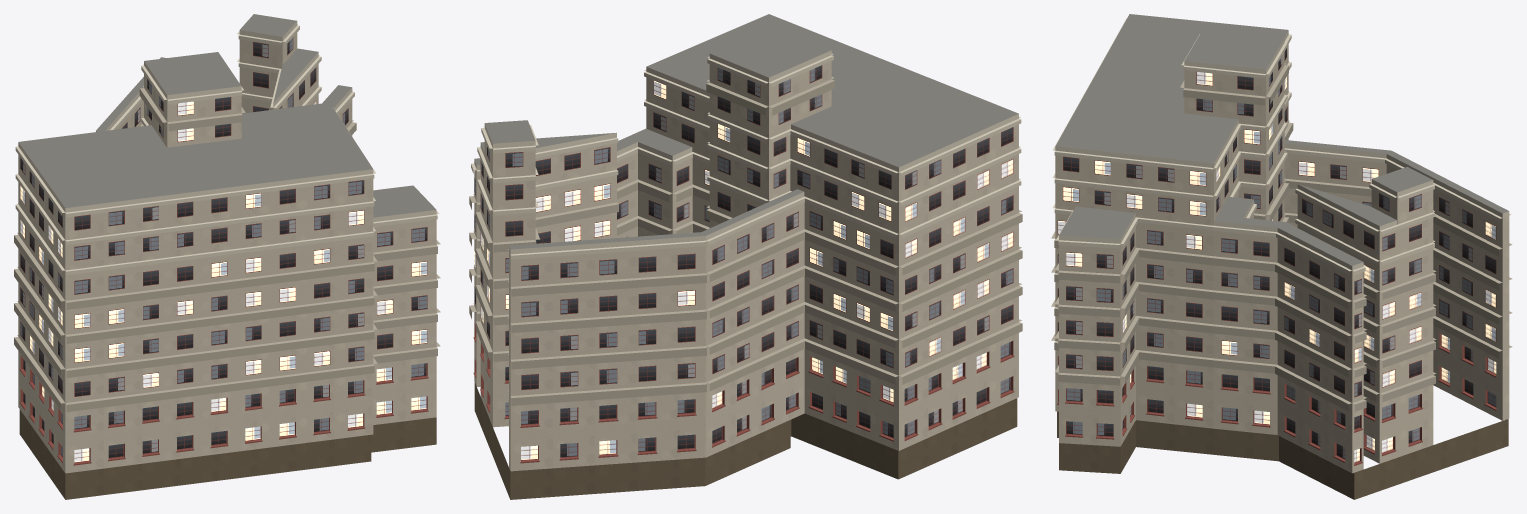
Rendered from z3a_kal_block.glb.
The picture shows the model from 3 angles, left to right: view 1: azimuth 30°, elevation 25°; view 2: azimuth 150°, elevation 25°; view 3: azimuth 270°, elevation 25°; orthographic projection. The views are drawn at different scales.
Parts seen in each view (by area): view 1: z3a_kal_block; view 2: z3a_kal_block; view 3: z3a_kal_block.
Boxes of the visible parts, <box> form: z3a_kal_block: <box>14,14,440,499</box>; z3a_kal_block: <box>469,14,1022,499</box>; z3a_kal_block: <box>1051,14,1512,499</box>.
Size of the model in its own units: 46.72 by 38 by 46.13.
Materials: 3 (3 with a texture image).
